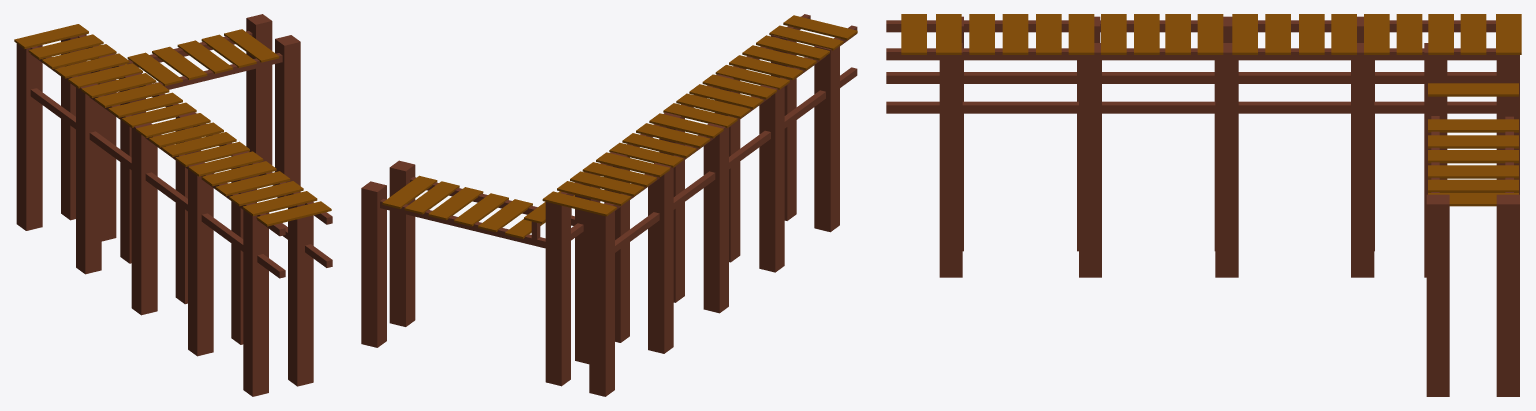
The model's file is Dock3.fbx.
The picture shows the model from 3 angles, left to right: view 1: azimuth 30°, elevation 25°; view 2: azimuth 150°, elevation 25°; view 3: azimuth 270°, elevation 25°; orthographic projection. The views are drawn at different scales.
Parts seen in each view (by area): view 1: Cube.033, Cube.001, Cube.032, Cube.031, Cube.038, Cube.037, Cube.090, Cube.077, Cube.073, Cube.081, Cube, Cube.036 (+30 smaller); view 2: Cube.001, Cube, Cube.031, Cube.033, Cube.038, Cube.032, Cube.077, Cube.090, Cube.073, Cube.081, Cube.034, Cube.037 (+28 smaller); view 3: Cube.079, Cube.073, Cube.035, Cube.034, Cube.037, Cube.036, Cube.077, Cube.090, Cube.004, Cube.081, Cube.003, Cube (+28 smaller).
Part boxes in pixels (<box>): Cube.033: <box>131,122,157,315</box>; Cube.001: <box>16,43,42,230</box>; Cube.032: <box>188,162,213,356</box>; Cube.031: <box>76,83,101,274</box>; Cube.038: <box>243,209,268,396</box>; Cube.037: <box>288,201,313,386</box>; Cube.090: <box>275,35,300,197</box>; Cube.077: <box>246,14,272,176</box>; Cube.073: <box>30,88,285,278</box>; Cube.081: <box>91,53,116,241</box>; Cube: <box>61,34,86,220</box>; Cube.036: <box>231,151,256,344</box>; Cube.001: <box>589,210,614,396</box>; Cube: <box>545,202,570,386</box>; Cube.031: <box>648,162,673,353</box>; Cube.033: <box>703,123,728,313</box>; Cube.038: <box>814,45,839,232</box>; Cube.032: <box>759,85,784,272</box>; Cube.077: <box>361,181,386,347</box>; Cube.090: <box>389,160,415,326</box>; Cube.073: <box>615,67,857,252</box>; Cube.081: <box>575,172,600,364</box>; Cube.034: <box>604,152,629,342</box>; Cube.037: <box>771,35,796,220</box>; Cube.079: <box>886,101,1496,113</box>; Cube.073: <box>886,72,1496,83</box>; Cube.035: <box>1215,43,1238,277</box>; Cube.034: <box>1351,43,1374,277</box>; Cube.037: <box>939,43,962,277</box>; Cube.036: <box>1079,43,1101,277</box>; Cube.077: <box>1496,194,1519,396</box>; Cube.090: <box>1426,194,1449,396</box>; Cube.004: <box>886,48,1496,60</box>; Cube.081: <box>1424,43,1447,277</box>; Cube.003: <box>886,20,1495,32</box>; Cube: <box>1496,55,1519,194</box>.
Bounding box in the file's own units: 3039 × 2243 × 5501.
